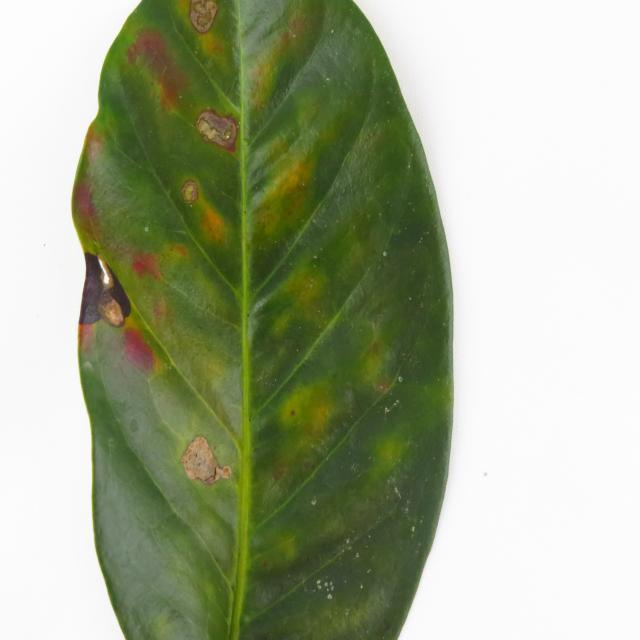DeficienciaNutricional-Fosforo: (72, 0, 452, 638)
